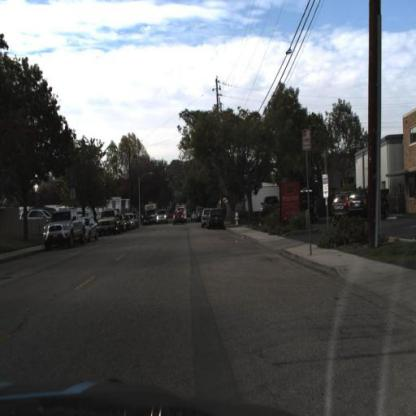car: (37, 206, 88, 257), (349, 187, 391, 222), (257, 187, 286, 220), (205, 202, 228, 236), (96, 206, 119, 238), (81, 212, 101, 246), (347, 191, 370, 220), (333, 189, 351, 224), (19, 206, 53, 224), (331, 190, 349, 224), (261, 195, 281, 218), (153, 205, 170, 229), (171, 207, 186, 230), (118, 210, 127, 237)
